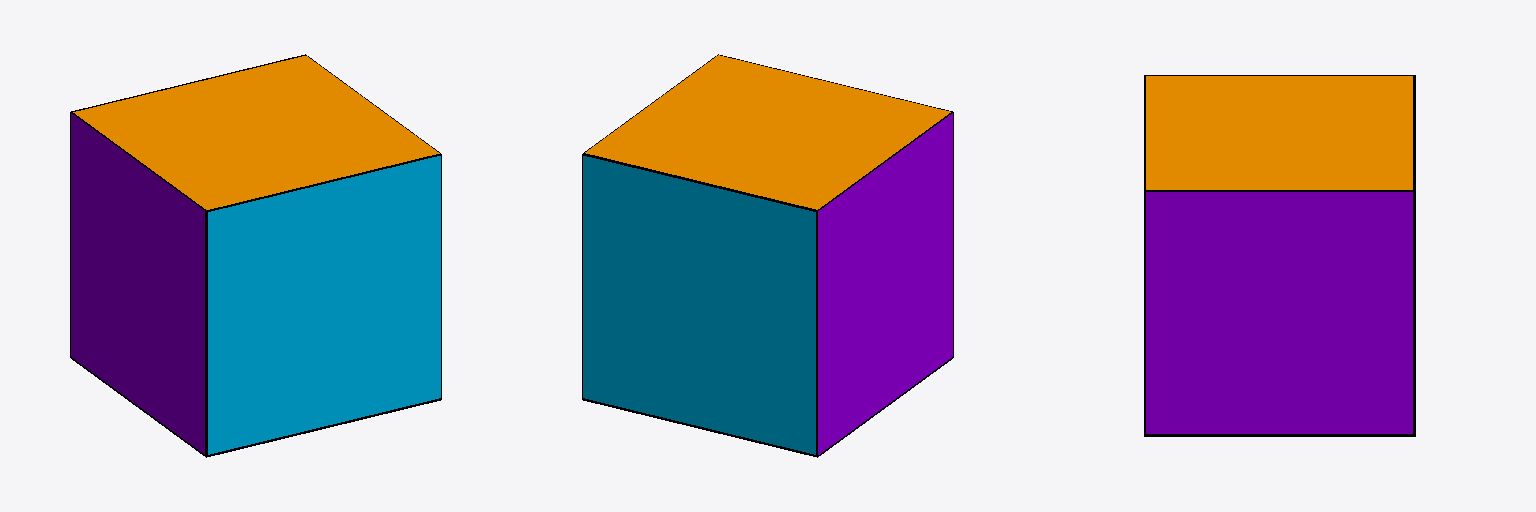
3 views of the same model, side by side, from view 1: azimuth 30°, elevation 25°; view 2: azimuth 150°, elevation 25°; view 3: azimuth 270°, elevation 25° (orthographic).
Parts seen in each view (by area): view 1: Cube_Cube.002; view 2: Cube_Cube.002; view 3: Cube_Cube.002.
Boxes of the visible parts, x1,y1,x2,y2 form: Cube_Cube.002: [70, 54, 441, 457]; Cube_Cube.002: [582, 54, 953, 457]; Cube_Cube.002: [1144, 75, 1415, 436].
Size of the model in its own units: 2 by 2 by 2.
1 materials, 1 textured.